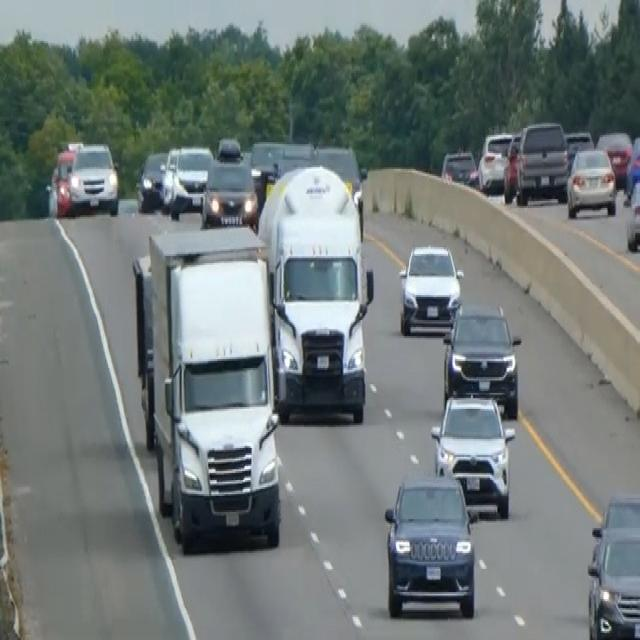car: (430, 391, 515, 517), (441, 299, 521, 416), (585, 491, 639, 638), (397, 240, 463, 336), (201, 135, 258, 228), (514, 119, 568, 205), (565, 144, 617, 219), (162, 142, 213, 217), (68, 141, 119, 215), (477, 130, 513, 194), (47, 144, 76, 217), (595, 128, 632, 185), (137, 149, 168, 210), (440, 148, 478, 188), (501, 131, 522, 201), (564, 128, 594, 172), (623, 175, 639, 252), (624, 133, 639, 199)
jeep: (382, 469, 478, 619)
lorry: (133, 222, 282, 551), (259, 162, 375, 423)
